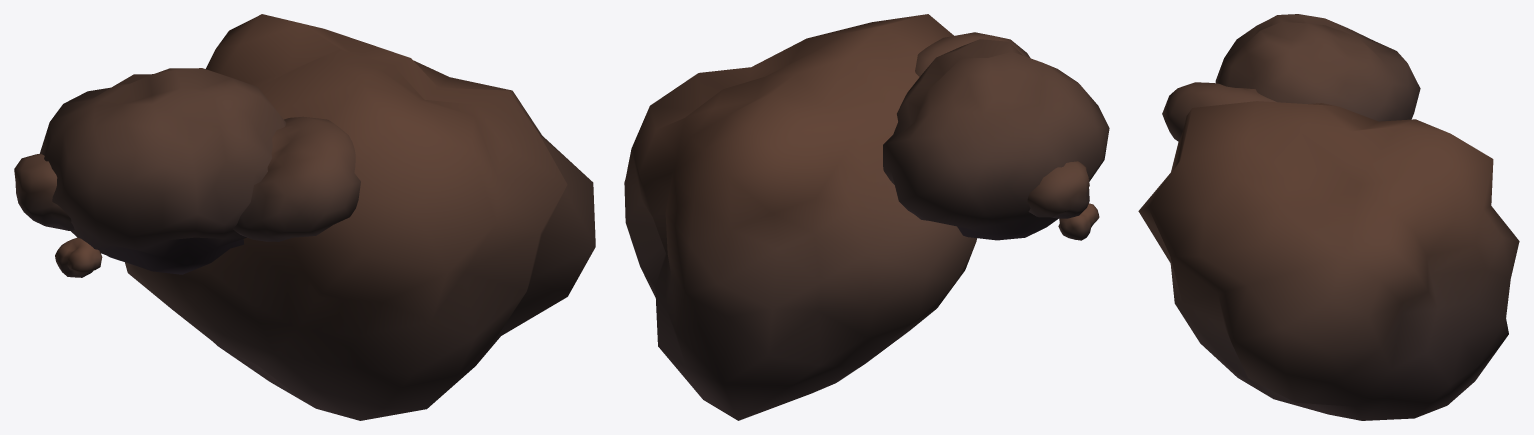
File: boulders.lod0.glb
The picture shows the model from 3 angles, left to right: view 1: azimuth 30°, elevation 25°; view 2: azimuth 150°, elevation 25°; view 3: azimuth 270°, elevation 25°; orthographic projection. The views are drawn at different scales.
Parts seen in each view (by area): view 1: boulders_s1_lod0; view 2: boulders_s1_lod0; view 3: boulders_s1_lod0.
Boxes of the visible parts, left/top/right/bottom form: boulders_s1_lod0: left=14, top=14, right=595, bottom=420; boulders_s1_lod0: left=624, top=14, right=1109, bottom=420; boulders_s1_lod0: left=1138, top=14, right=1519, bottom=420.
Bounding box in the file's own units: 2.25 × 1.52 × 1.79.
